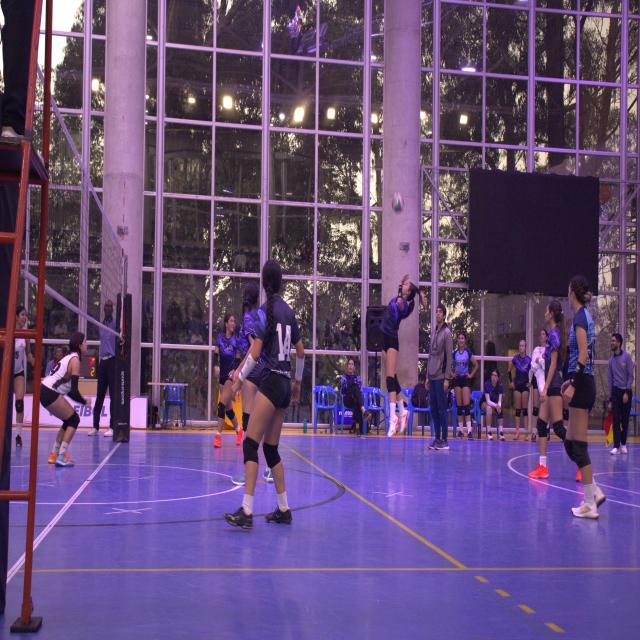volleyball: (391, 192, 405, 214)
